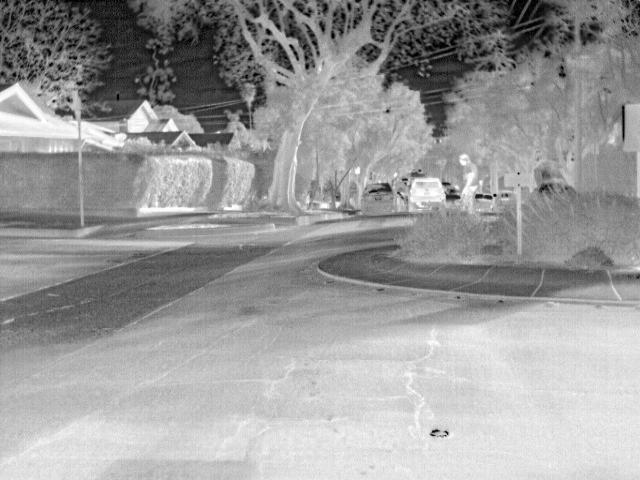car: (361, 181, 399, 214), (408, 177, 447, 208), (445, 180, 460, 197), (477, 190, 493, 204), (499, 190, 512, 206)
person: (457, 152, 480, 212)
